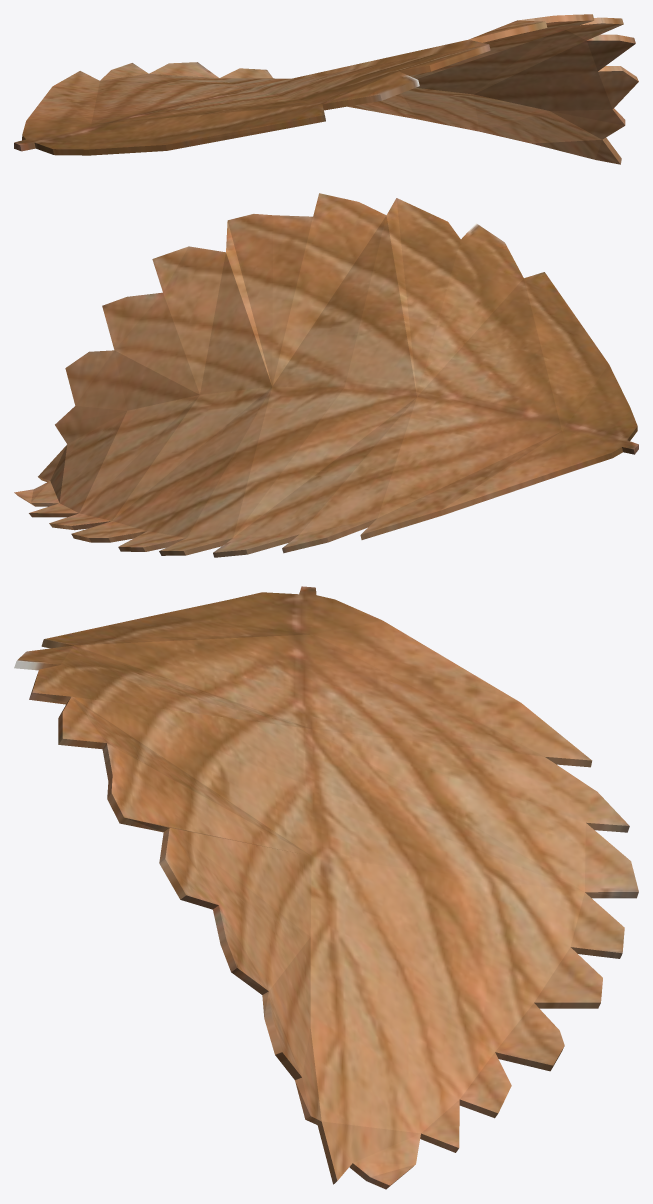
The model's file is leaf5_d2.dae.
3 renders of one model, top to bottom at view 1: azimuth 30°, elevation 25°; view 2: azimuth 150°, elevation 25°; view 3: azimuth 270°, elevation 25°, orthographic. The views are drawn at different scales.
Visible parts, largest first — view 1: Plane; view 2: Plane; view 3: Plane.
Part boxes in pixels (x1,y1,x2,y2): Plane: (14, 14, 638, 164); Plane: (14, 193, 638, 557); Plane: (14, 586, 638, 1189).
Size of the model in its own units: 0.1375 by 0.0957 by 0.0575.
Materials: 1 (1 with a texture image).
